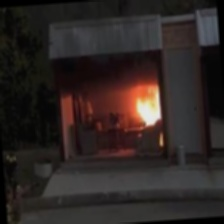fire: (133, 78, 169, 127)
